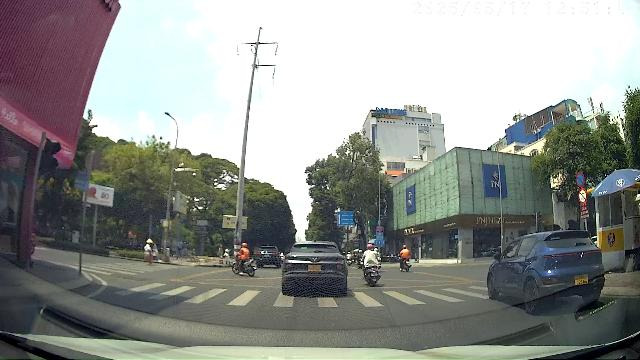131a-cam-do-xe: (576, 172, 586, 188)
